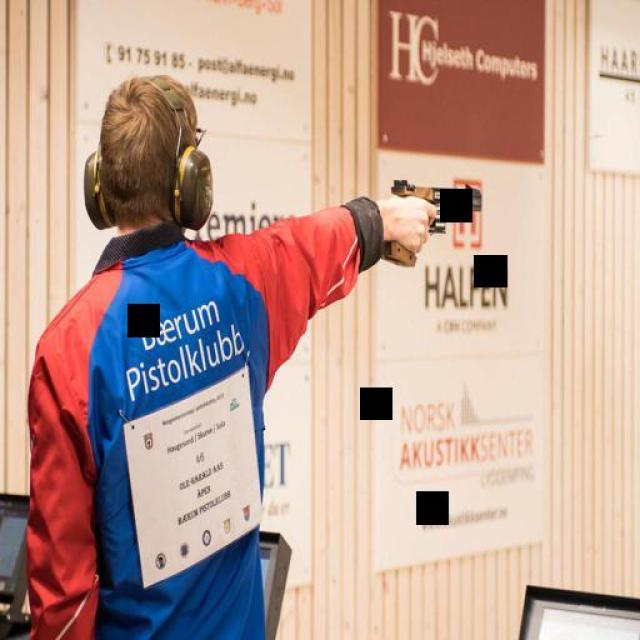gun: (382, 172, 482, 268)
